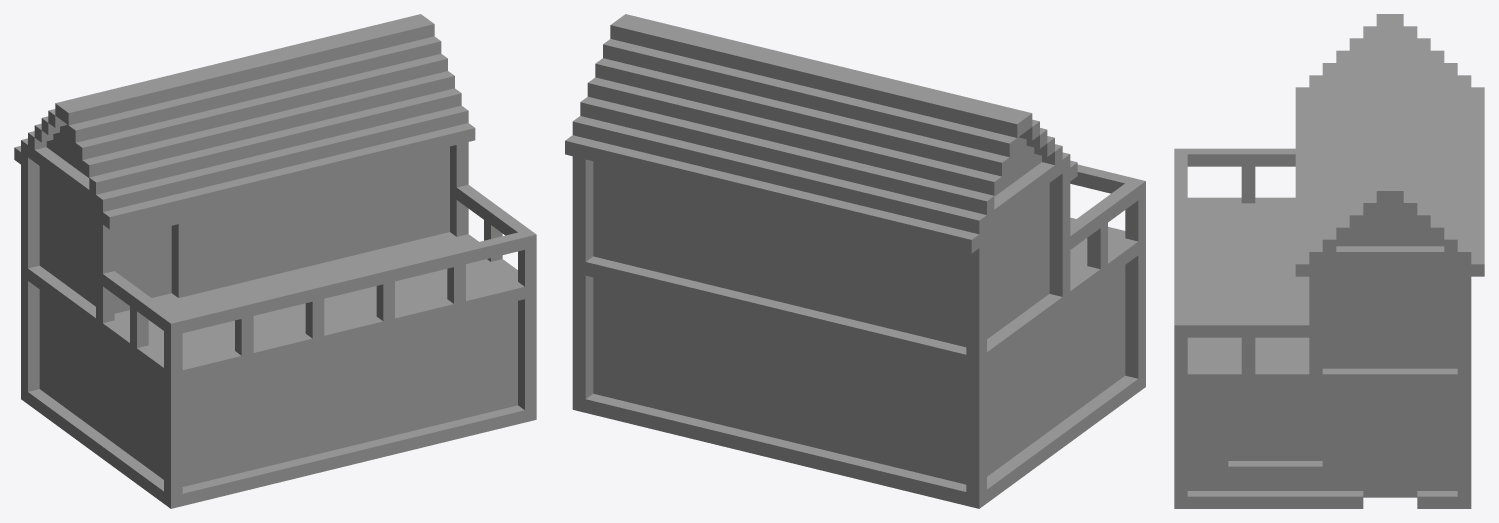
Rendered from church6-2.obj.
3 renders of one model, left to right at view 1: azimuth 30°, elevation 25°; view 2: azimuth 150°, elevation 25°; view 3: azimuth 270°, elevation 25°, orthographic. The views are drawn at different scales.
Parts seen in each view (by area): view 1: church6-2; view 2: church6-2; view 3: church6-2.
Part boxes in pixels (x1,y1,x2,y2): church6-2: (14,14,536,508); church6-2: (565,14,1145,508); church6-2: (1174,14,1484,508).
Size of the model in its own units: 31 by 26 by 23.
1 material, 1 textured.
